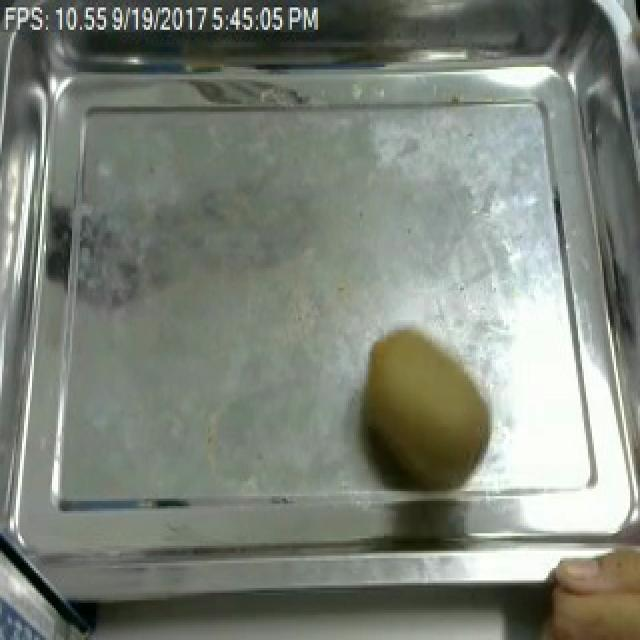Fruit: (348, 320, 504, 491), (526, 531, 640, 640)
